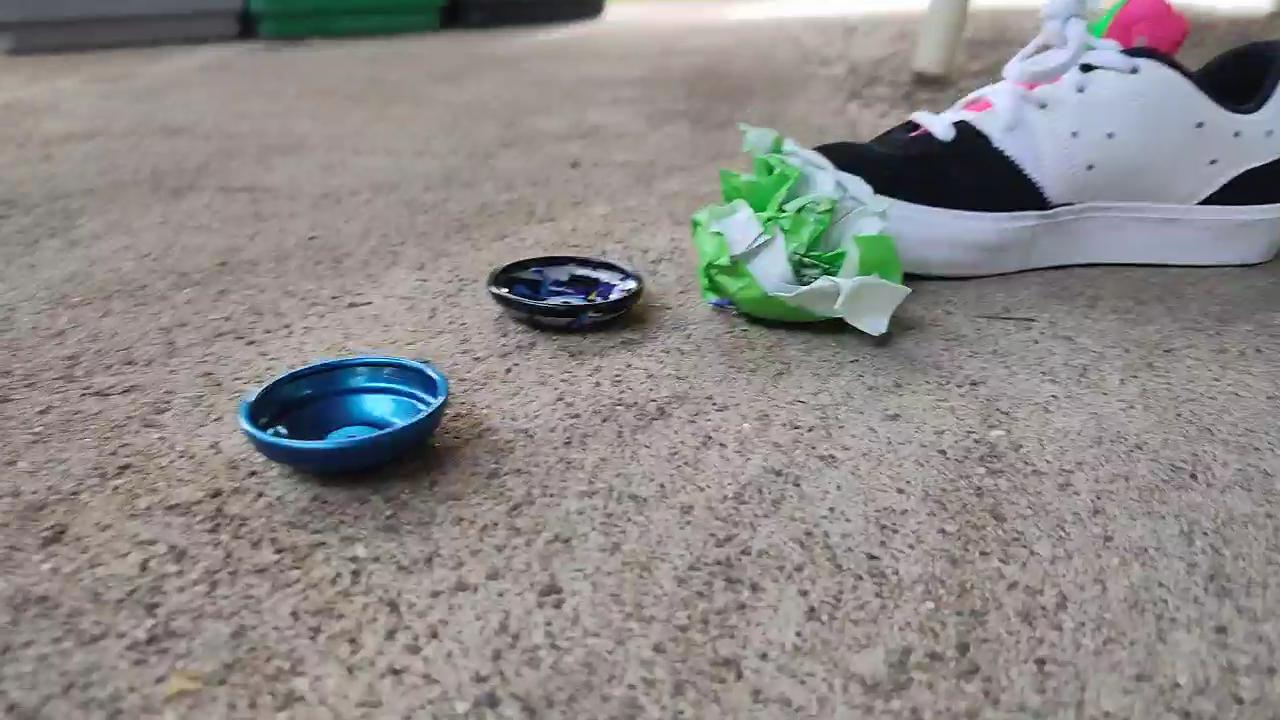Paper: (677, 114, 917, 358)
